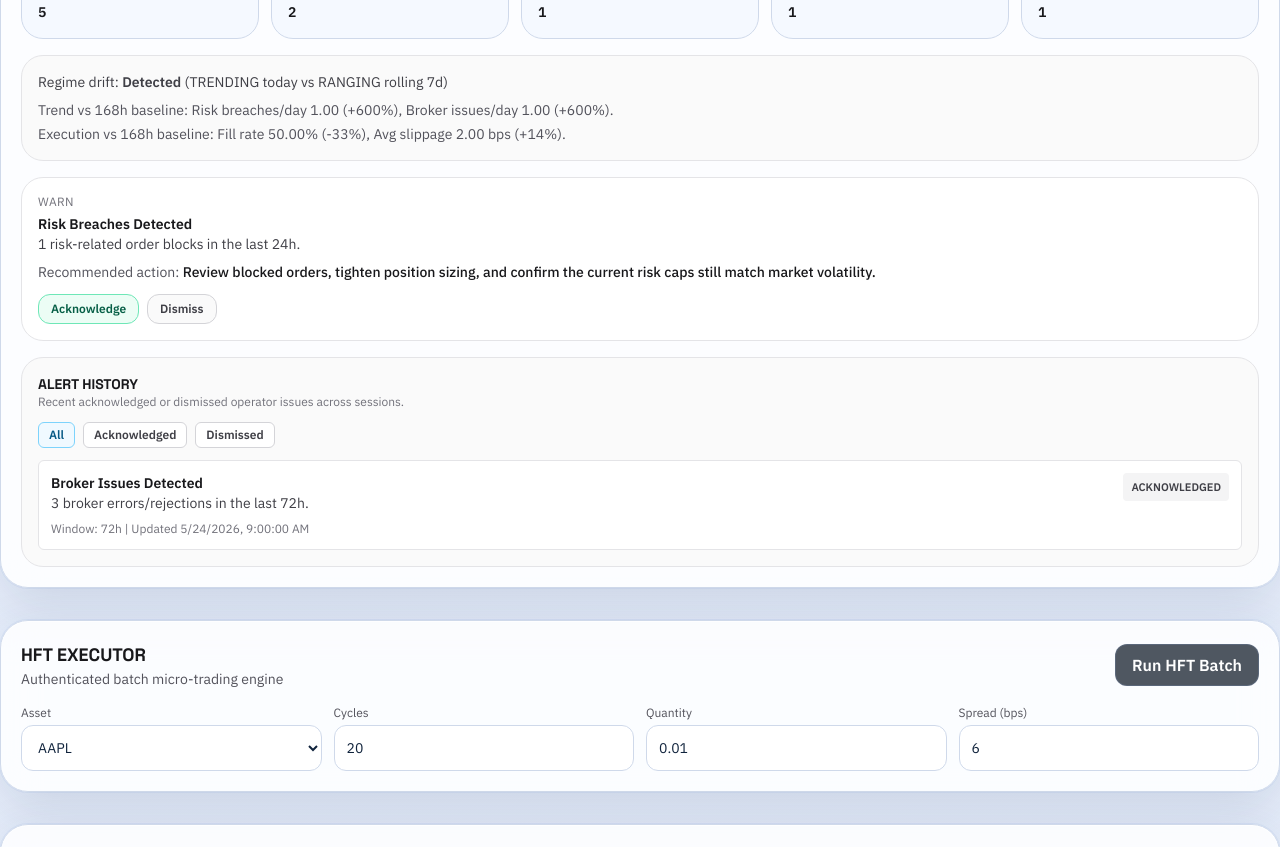
TradingSignals › filters operator brief alert history by status
The width and height of the screenshot is (1280, 847).
(page scrolled)
Expected: the heading "Alert History" is shown, [38,374,138,392]
Click the button "Dismissed" at coordinates (235, 434), box [195,422,275,448]
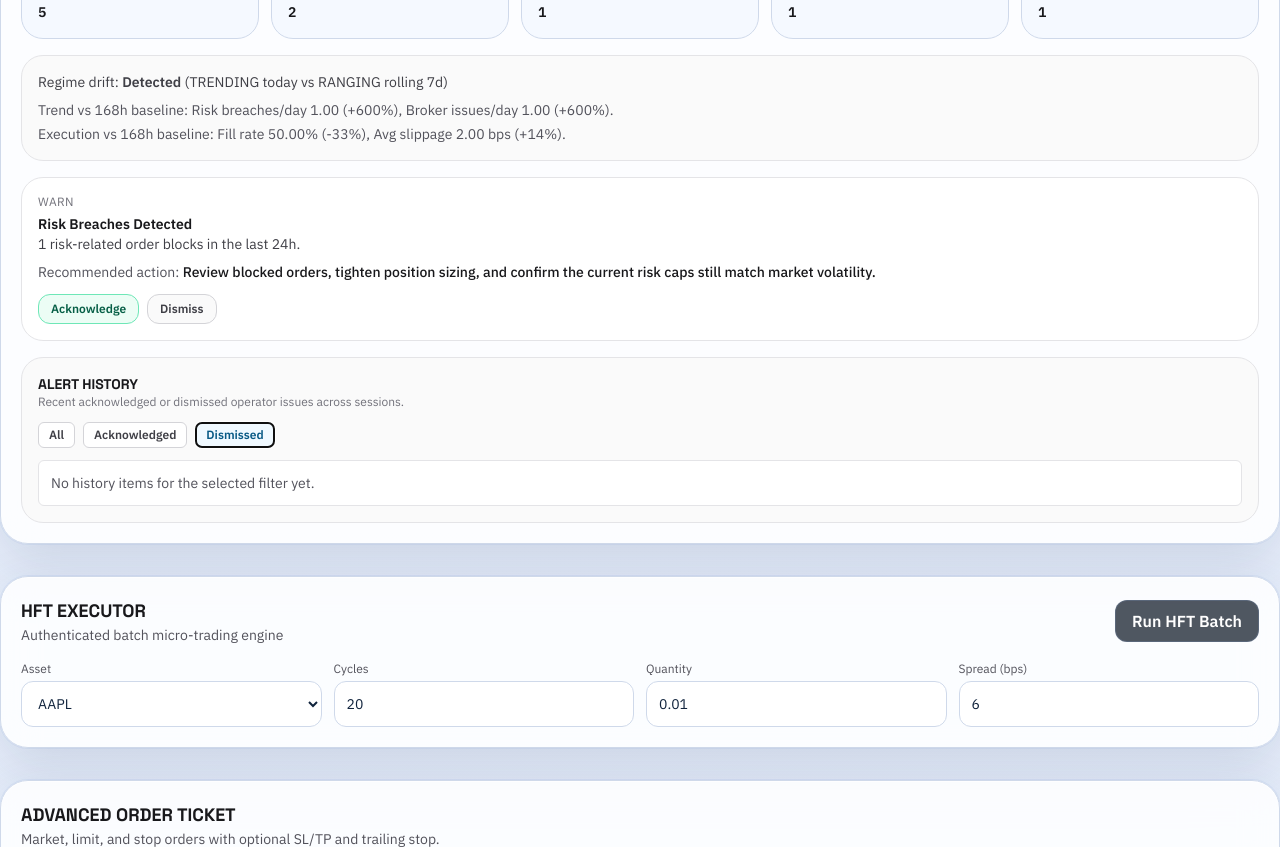
Expected: the button "All" is shown, [38,422,75,448]
Now the text "No history items for the selected filter yet." is shown, box [38,460,1242,506]
